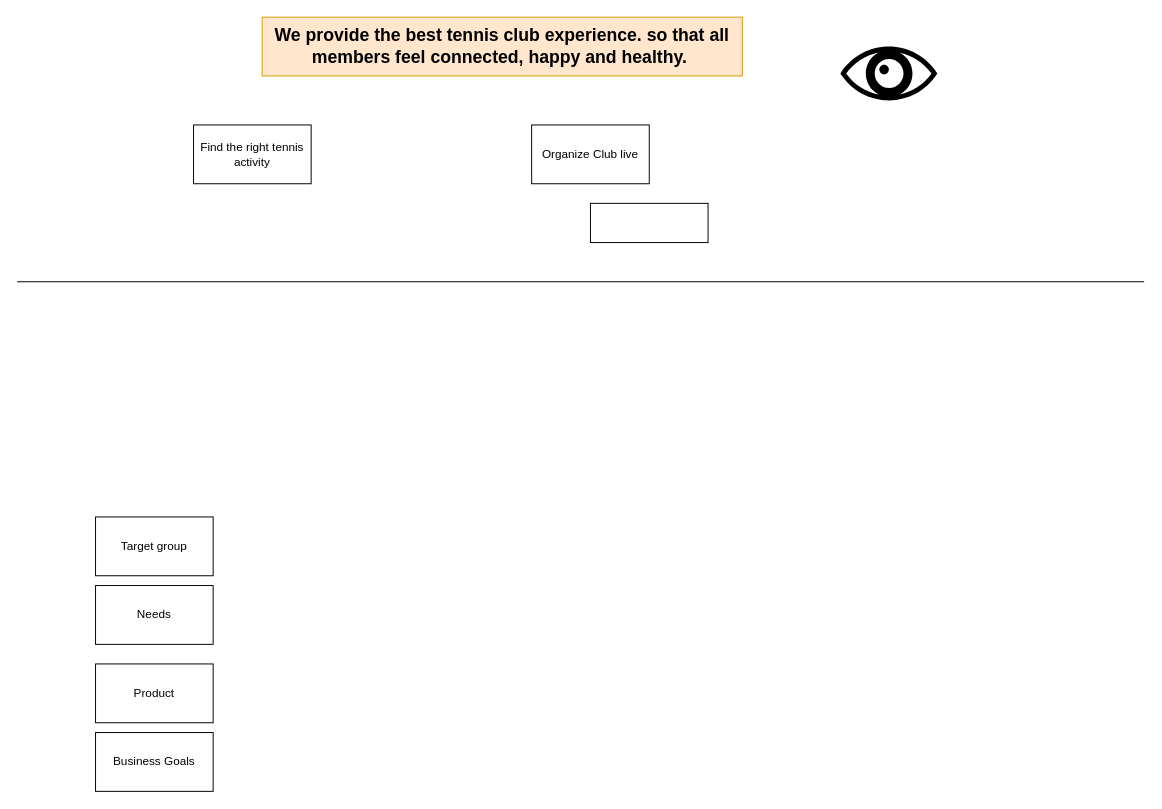
Image size: 1162x809. Some labels were removed from this diagram. The shapes that lost their labels are listed below. From the top down, each one's centre as x and y in pixels, then its label:
At point (888, 73): "Vision".
At point (648, 222): "Organize Court Bookings".
